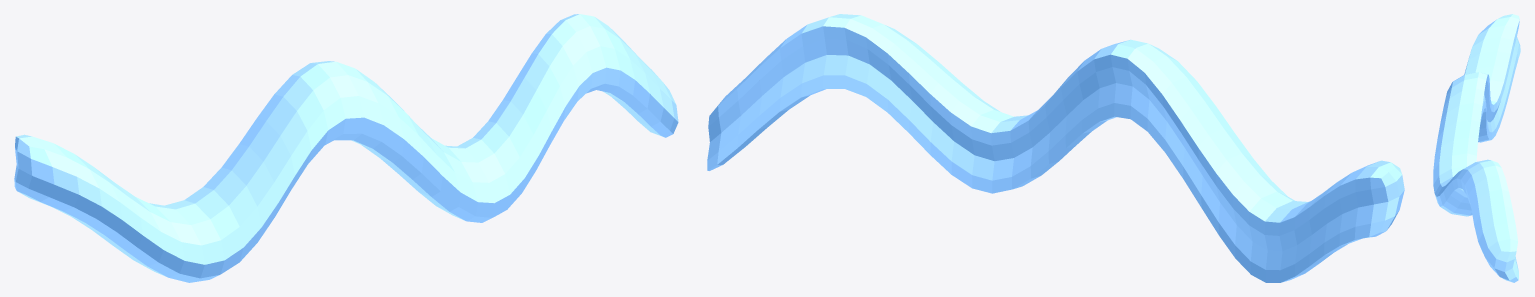
3 renders of one model, left to right at view 1: azimuth 30°, elevation 25°; view 2: azimuth 150°, elevation 25°; view 3: azimuth 270°, elevation 25°, orthographic. The views are drawn at different scales.
Visible parts, largest first — view 1: Cube.002_Baked; view 2: Cube.002_Baked; view 3: Cube.002_Baked.
Boxes of the visible parts, box(x1,y1,x2,y2) form: Cube.002_Baked: box(14, 14, 678, 282); Cube.002_Baked: box(707, 14, 1404, 282); Cube.002_Baked: box(1433, 14, 1520, 282).
Bounding box in the file's own units: 38.22 × 10.36 × 7.74.
1 material, 1 textured.
